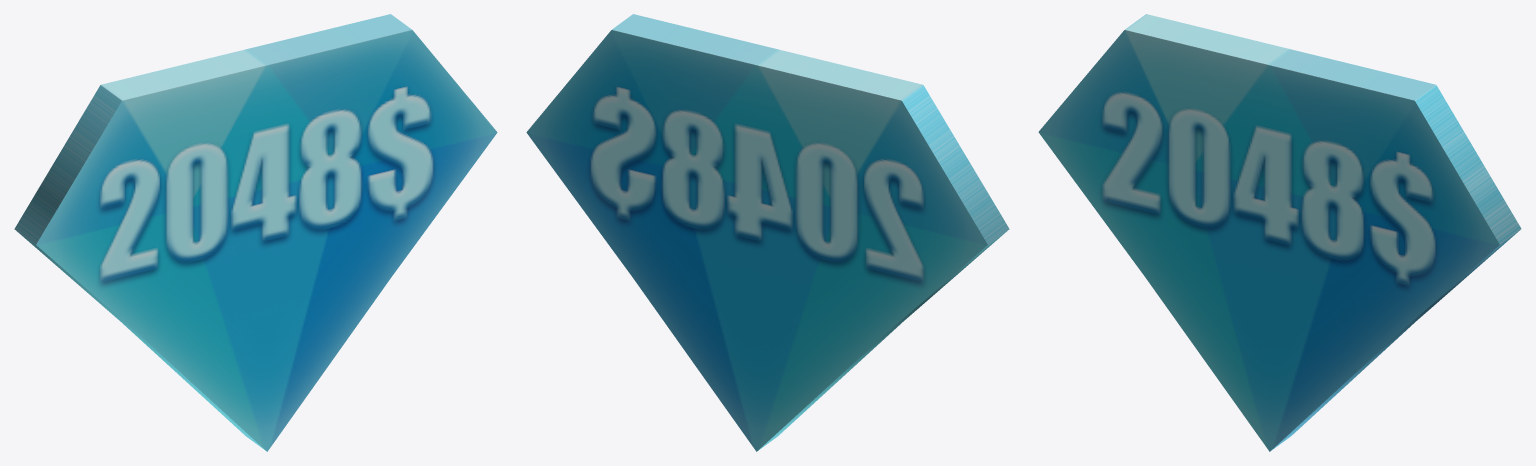
File: 14_2048Dollars.fbx
The picture shows the model from 3 angles, left to right: view 1: azimuth 30°, elevation 25°; view 2: azimuth 150°, elevation 25°; view 3: azimuth 330°, elevation 25°; orthographic projection.
Parts seen in each view (by area): view 1: _2048Dollars; view 2: _2048Dollars; view 3: _2048Dollars.
Part boxes in pixels (x1=…): _2048Dollars: x1=14, y1=14, x2=497, y2=451; _2048Dollars: x1=526, y1=14, x2=1009, y2=451; _2048Dollars: x1=1038, y1=14, x2=1521, y2=451.
Size of the model in its own units: 89.39 by 71.56 by 7.26.
1 material, 1 textured.
